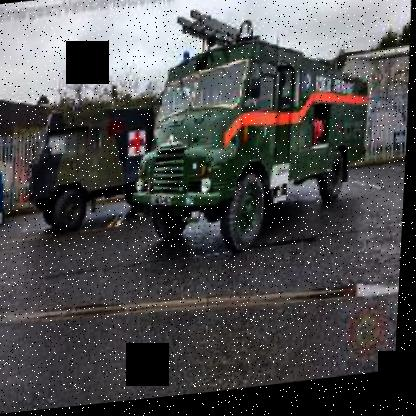emergency: (145, 36, 383, 254), (22, 89, 162, 236)
